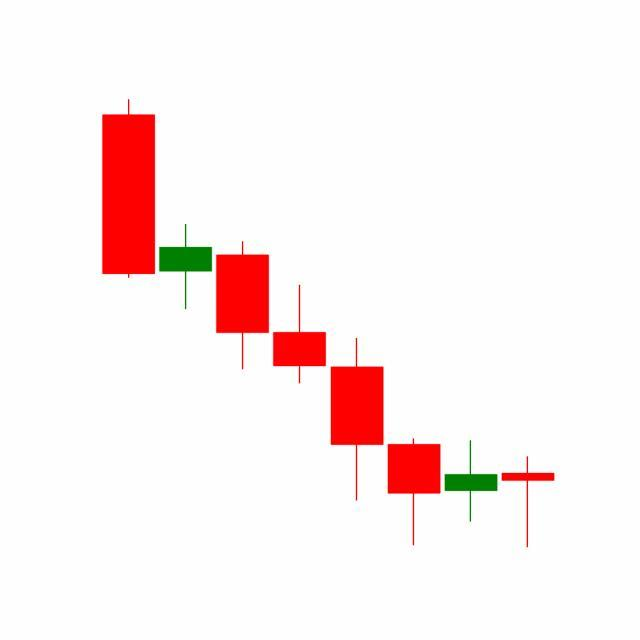Hikkake Pattern: (270, 281, 555, 549)
